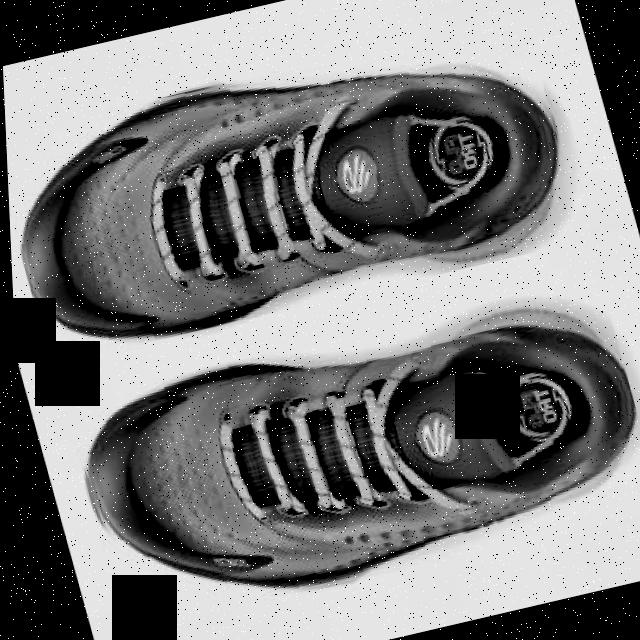shoe: (55, 276, 640, 635), (0, 9, 589, 364)
